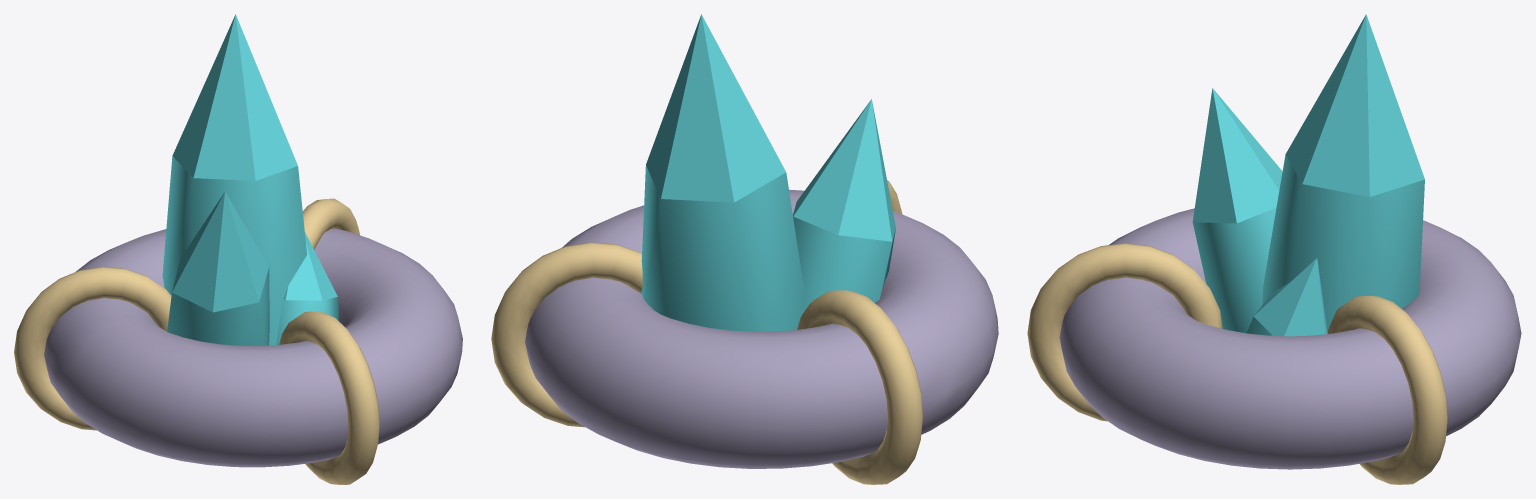
File: one-collectible-star-crystal-cluster-for-a.glb
3 views of the same model, side by side, from view 1: azimuth 30°, elevation 25°; view 2: azimuth 150°, elevation 25°; view 3: azimuth 270°, elevation 25° (orthographic). The views are drawn at different scales.
Parts seen in each view (by area): view 1: plum_collar, crystal_cluster, brass_bands; view 2: plum_collar, crystal_cluster, brass_bands; view 3: plum_collar, crystal_cluster, brass_bands.
Part boxes in pixels (x1,y1,x2,y2): plum_collar: (44,228,462,467); crystal_cluster: (162,14,338,345); brass_bands: (14,198,379,484); plum_collar: (525,189,998,468); crystal_cluster: (641,14,895,331); brass_bands: (491,180,922,484); plum_collar: (1059,208,1521,469); crystal_cluster: (1192,14,1424,336); brass_bands: (1027,243,1447,484).
Size of the model in its own units: 1.91 by 1.88 by 2.
